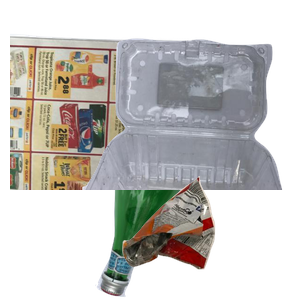glass: (93, 143, 284, 300)
paper: (10, 31, 214, 211)
plastic: (80, 36, 300, 216)
trash: (120, 174, 300, 300)
